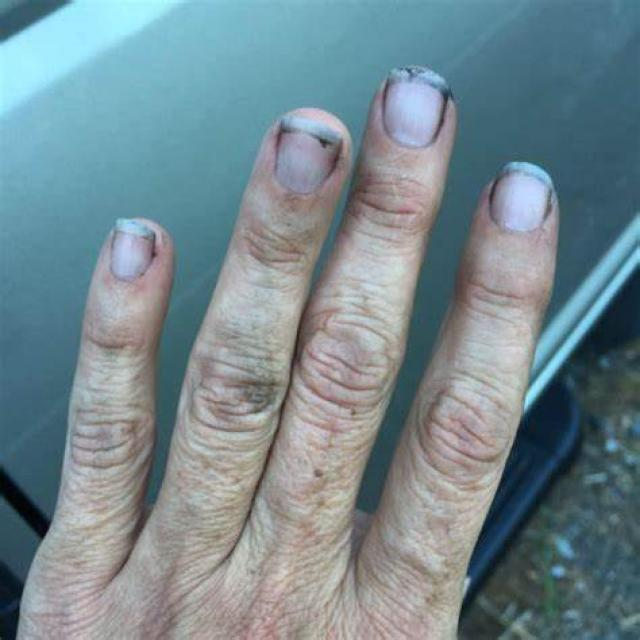Fingernail: (276, 116, 342, 193), (384, 68, 447, 147), (492, 162, 552, 232), (112, 220, 155, 279)
